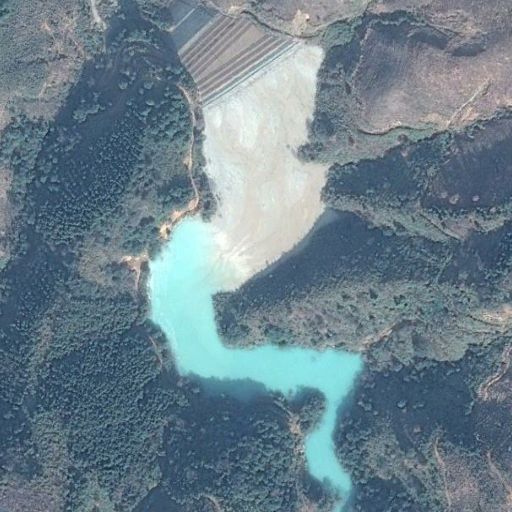tp: (147, 5, 372, 512)
